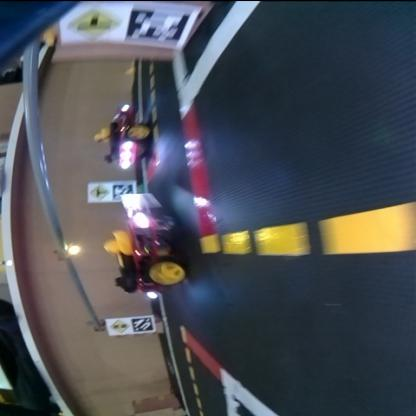Duckie: (104, 230, 131, 256), (94, 128, 108, 142)
Duckiebot: (112, 200, 184, 293), (105, 104, 152, 166)
Intersection sign: (64, 7, 116, 43), (88, 183, 110, 202)
QR code: (126, 5, 190, 48), (113, 182, 135, 200), (132, 314, 154, 332)
Signal sign: (108, 318, 130, 334)
Traffic light: (52, 243, 80, 259)
